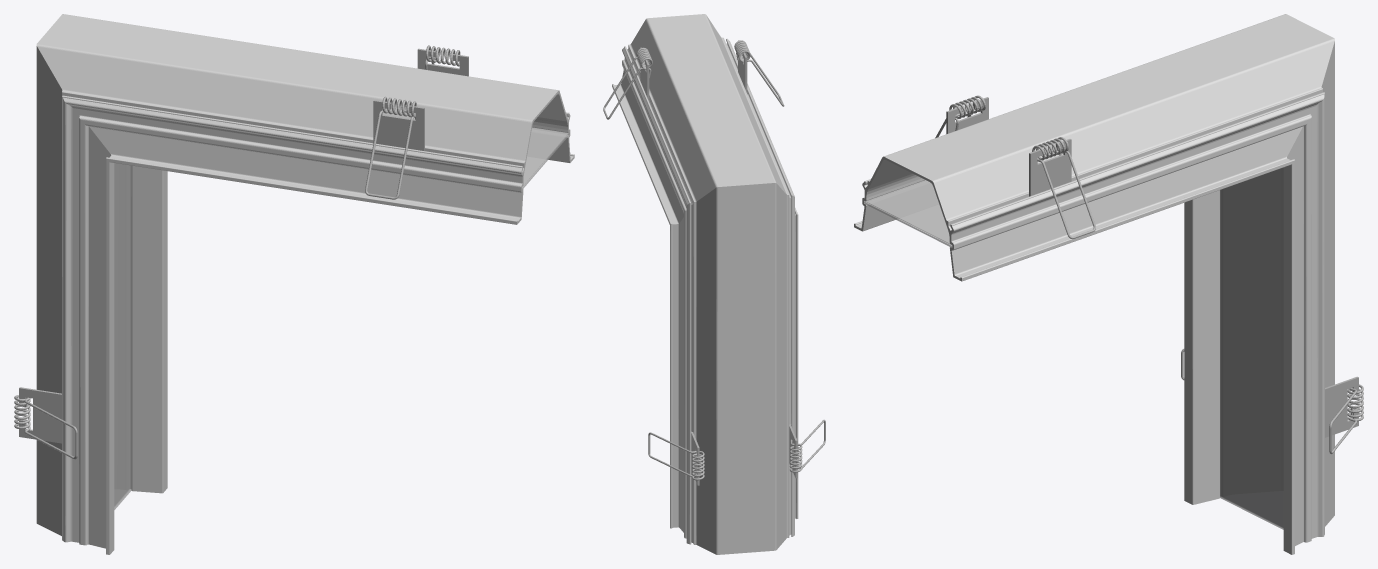
Rendered from Fit60Embutido-curva-teto-parede.glb.
The picture shows the model from 3 angles, left to right: view 1: azimuth 30°, elevation 25°; view 2: azimuth 150°, elevation 25°; view 3: azimuth 270°, elevation 25°; orthographic projection. The views are drawn at different scales.
Parts seen in each view (by area): view 1: Geom3D (×11); view 2: Geom3D (×6); view 3: Geom3D (×11).
Part boxes in pixels (x1=…): Geom3D (×11): x1=14, y1=14, x2=574, y2=554; Geom3D (×6): x1=603, y1=14, x2=825, y2=554; Geom3D (×11): x1=854, y1=14, x2=1363, y2=554.
Size of the model in its own units: 0.2202 by 0.2564 by 0.2427.
4 materials, 1 textured.
